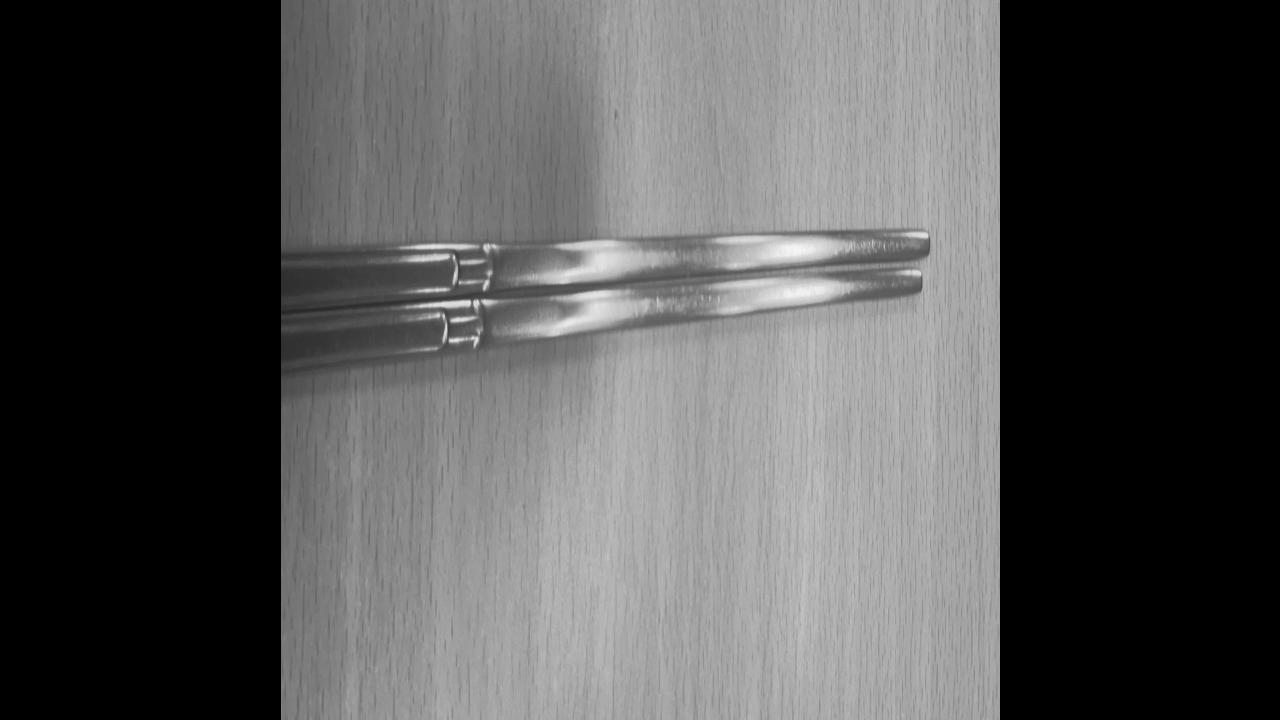chopstick: (280, 230, 930, 376)
